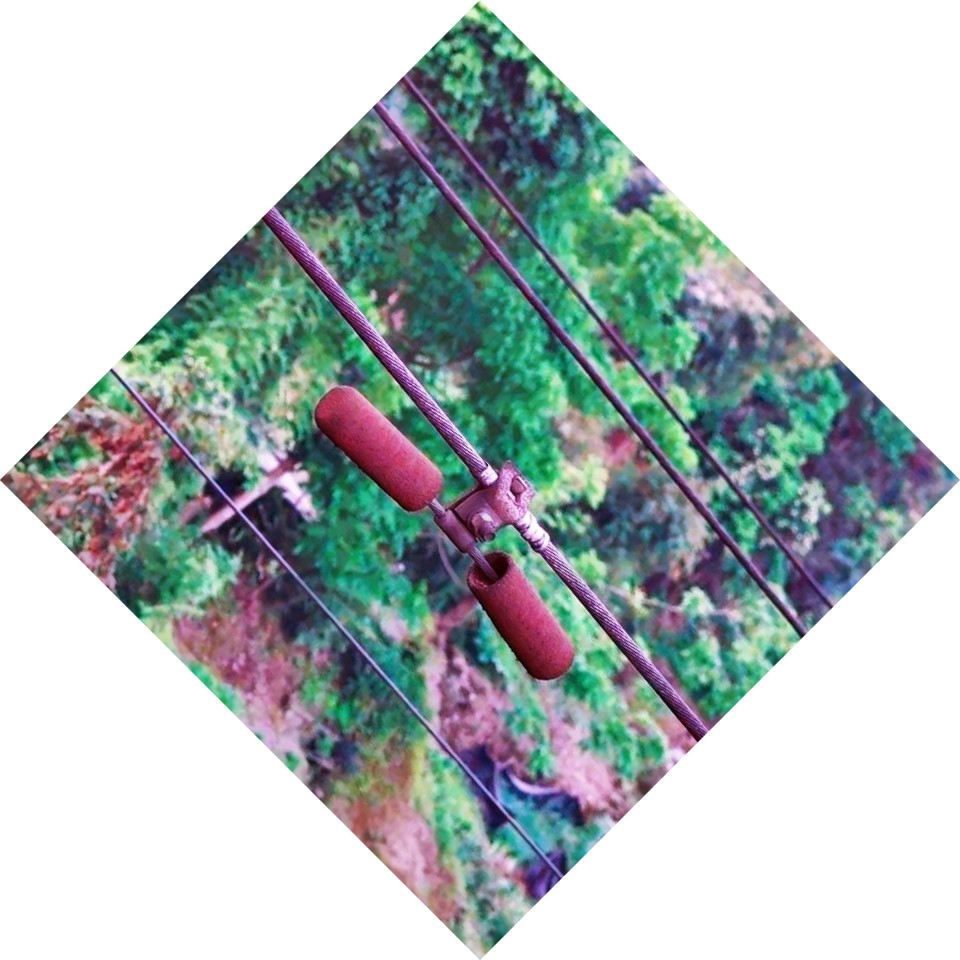Shockproof hammer: (311, 327, 595, 689)
